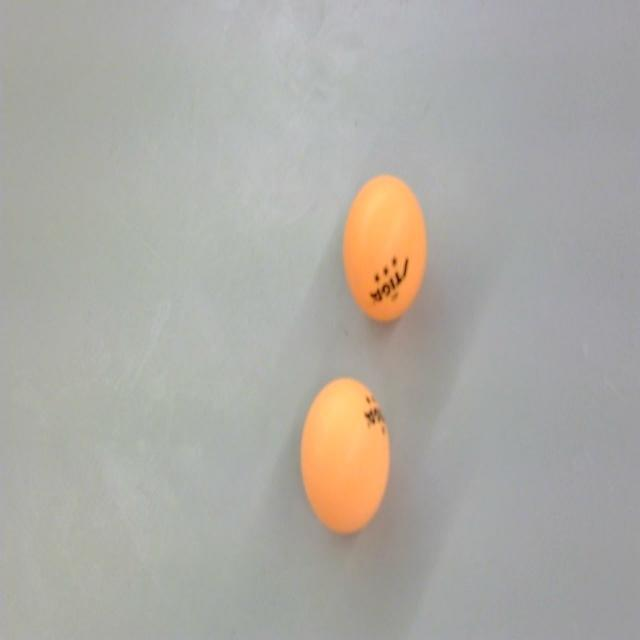ball: (299, 374, 392, 540), (343, 175, 428, 325)
